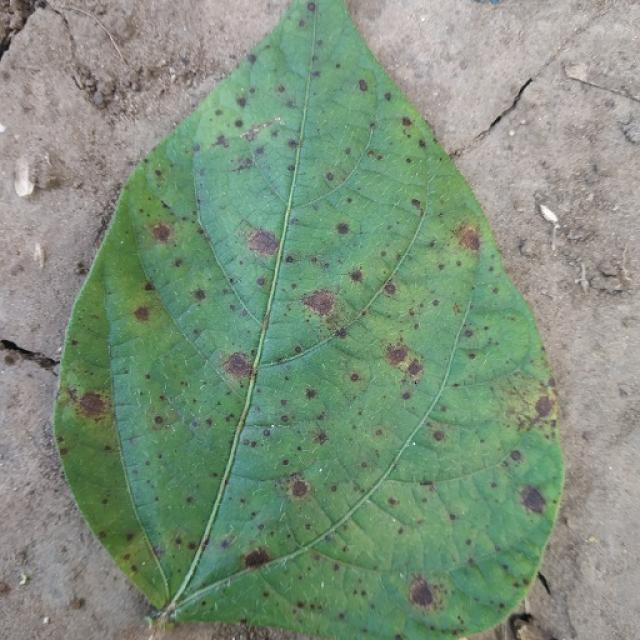Anthracnose: (63, 381, 115, 433), (302, 289, 337, 317), (247, 226, 279, 256), (223, 350, 252, 380), (521, 485, 547, 514), (409, 578, 434, 607), (456, 225, 481, 253), (243, 547, 271, 569), (386, 345, 410, 367), (533, 394, 553, 419), (151, 222, 171, 243), (258, 310, 272, 339), (290, 479, 308, 498), (132, 305, 152, 322), (213, 133, 228, 148), (349, 269, 363, 283), (509, 448, 523, 462), (335, 222, 350, 235), (304, 387, 317, 400), (383, 282, 396, 295), (193, 288, 206, 300), (432, 430, 445, 442), (236, 96, 247, 108), (316, 432, 327, 444), (410, 198, 421, 210), (335, 327, 347, 338), (358, 79, 368, 92), (401, 116, 412, 127), (153, 414, 164, 425), (220, 539, 231, 550), (387, 497, 398, 507), (287, 139, 298, 149), (247, 53, 257, 64), (350, 372, 360, 382), (463, 329, 473, 338), (256, 277, 266, 286), (307, 2, 316, 12), (192, 143, 201, 153), (402, 391, 411, 400), (296, 600, 305, 609), (234, 119, 243, 128), (326, 172, 334, 181), (384, 92, 392, 101), (262, 429, 271, 437), (311, 70, 320, 78), (280, 398, 288, 406), (294, 346, 302, 354), (101, 497, 108, 505), (282, 459, 289, 466), (71, 339, 78, 346)
Blackgram: (54, 0, 562, 639)
